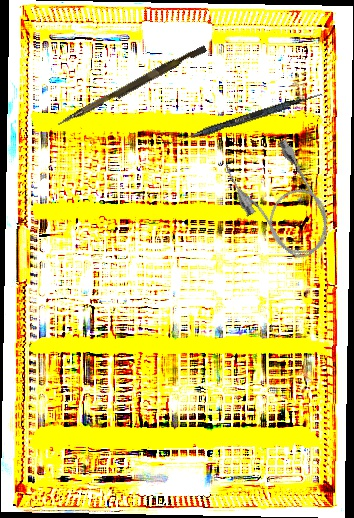Cannula: (218, 130, 345, 273)
Pusher: (56, 41, 208, 132)
Spatula Surgical: (162, 88, 323, 151)
